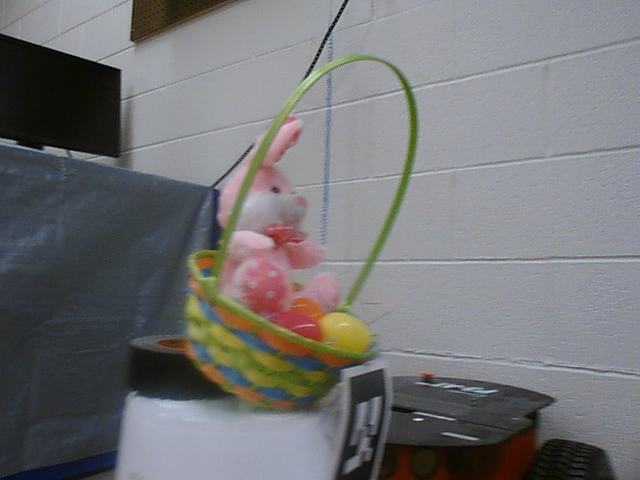bunny: (173, 52, 423, 417)
